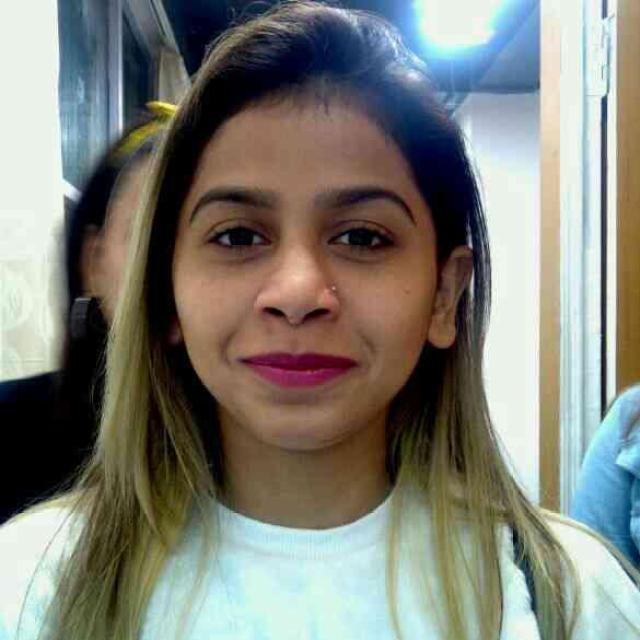Puffy Eyes - v3 Dark Circle: (205, 247, 275, 270), (328, 244, 383, 264)
